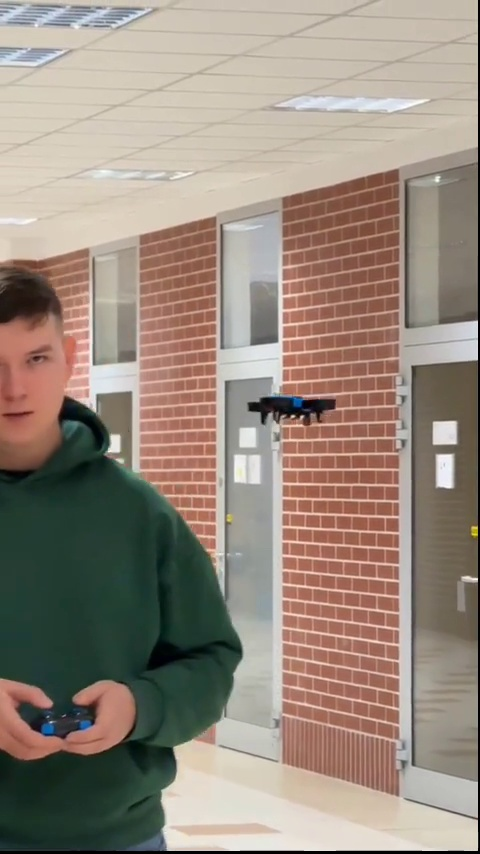drone: (244, 395, 338, 421)
no vest: (0, 256, 244, 854)
